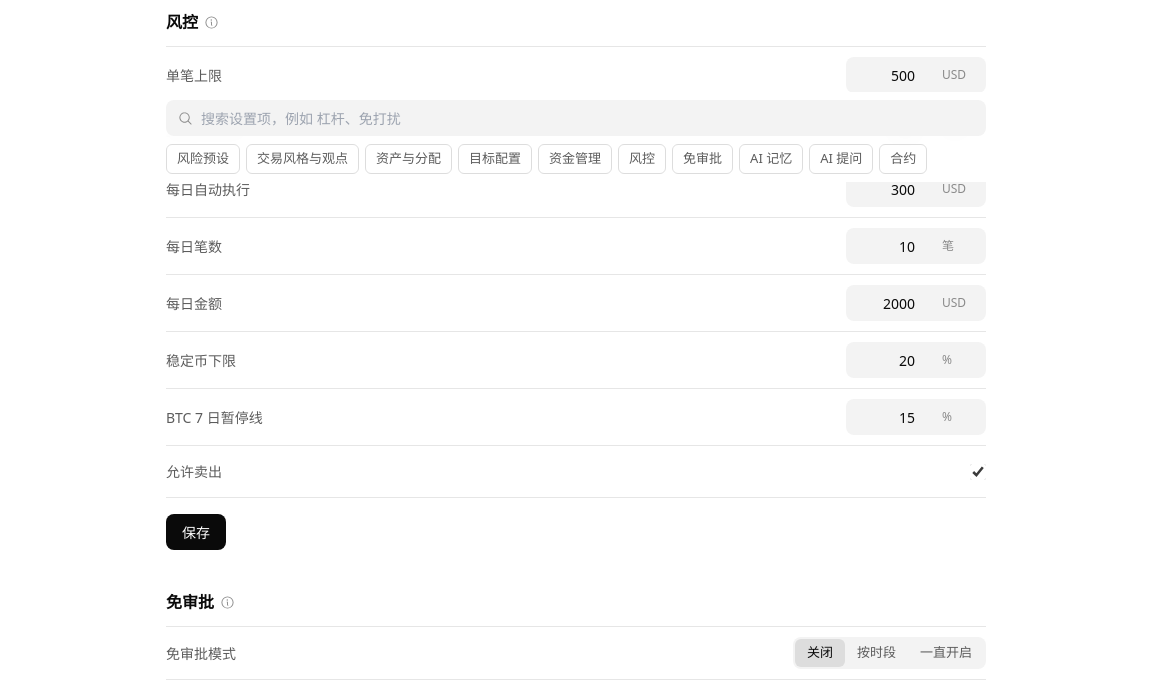
Test: Config page (配置) › saves risk limits, converting percentages back to fractions
(page scrolled)
Expected: the heading "风控" is shown, [166,10,219,34]
Replace the text in the number field labelled "%" in the row of "稳定币下限" with "25" at (894, 360), box [846,342,942,378]
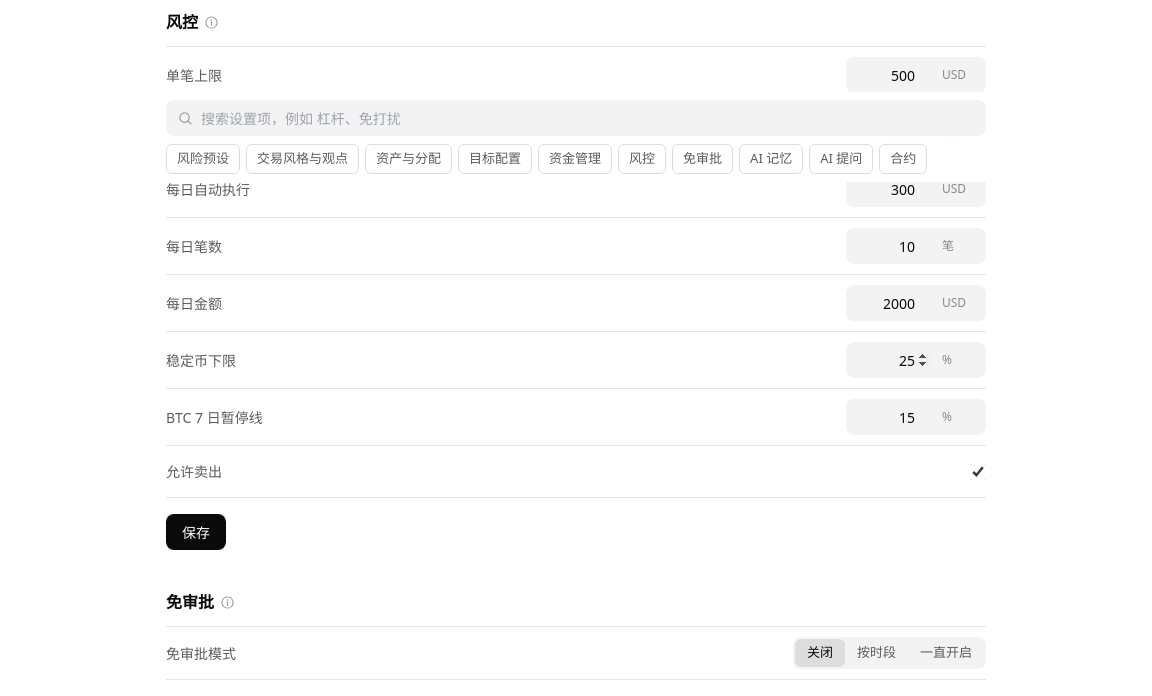
Click the checkbox.
click(978, 472)  # box [970,464,986,480]
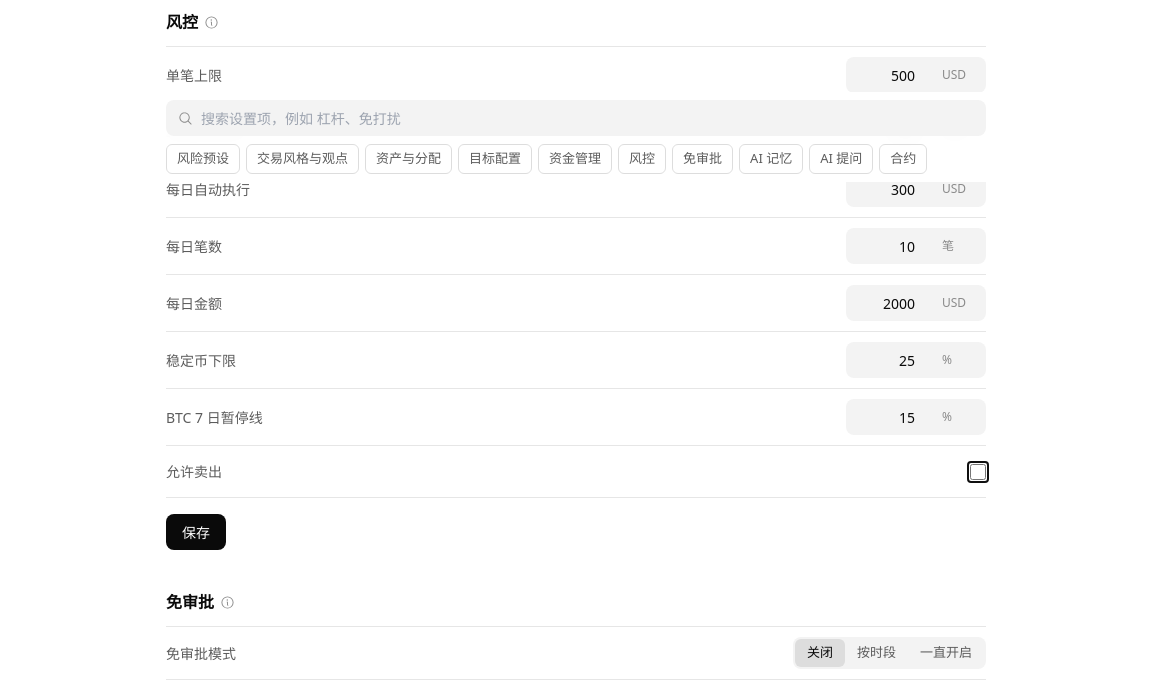
Click the button "保存" below "允许卖出".
click(196, 532)  # box [166,514,226,550]
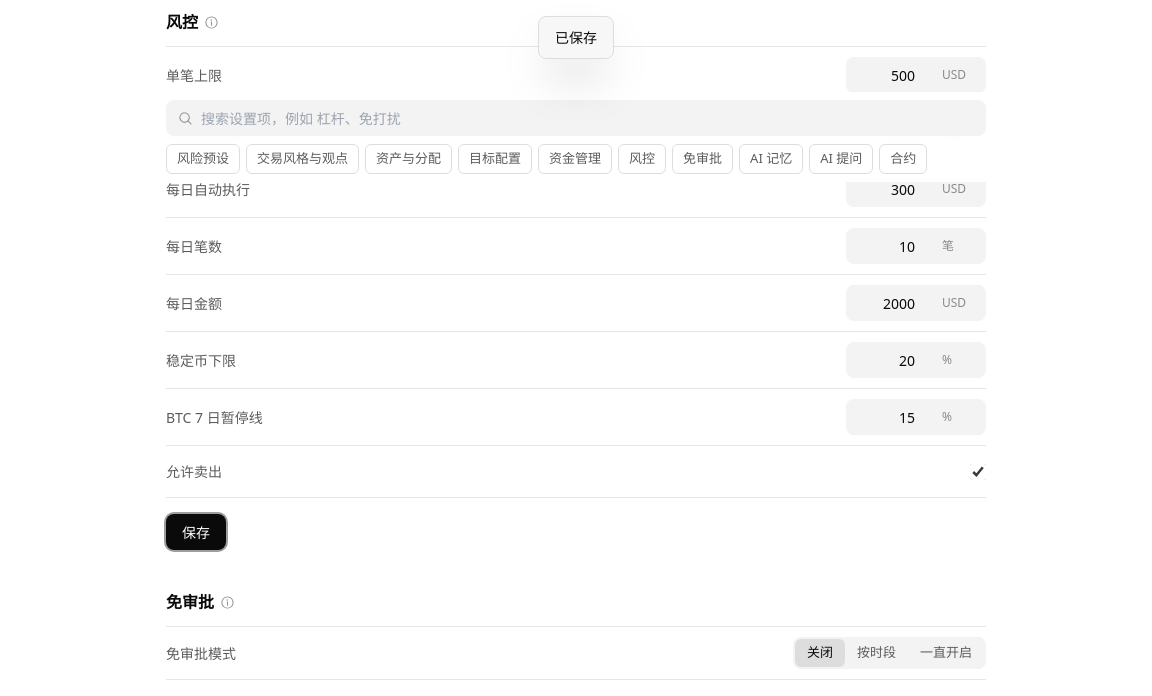
Expected: the message reads "已保存", [555,28,597,47]
